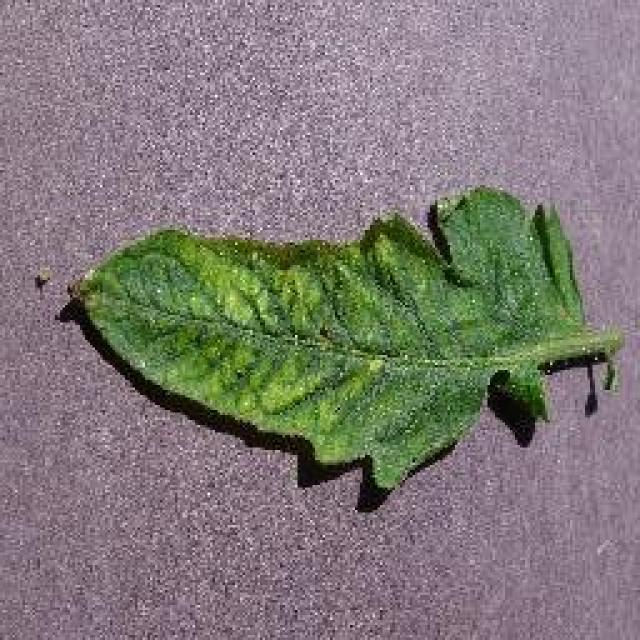Tomato spider mites leaf: (72, 185, 600, 493)
